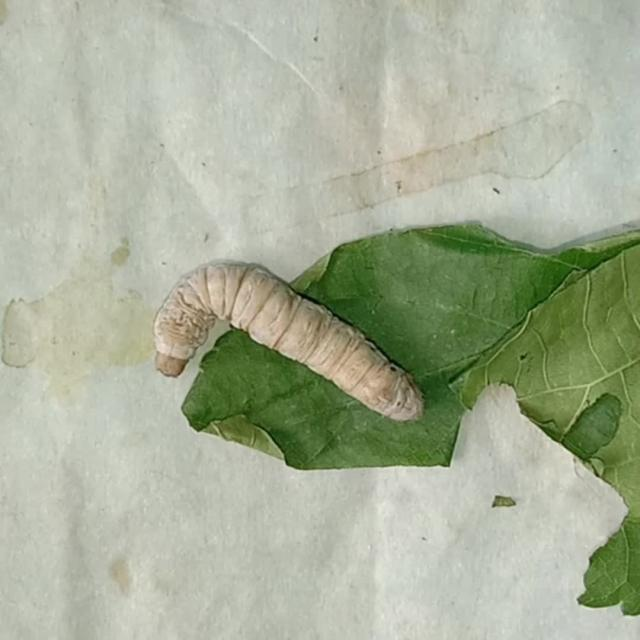Grasserie: (118, 203, 454, 469)
